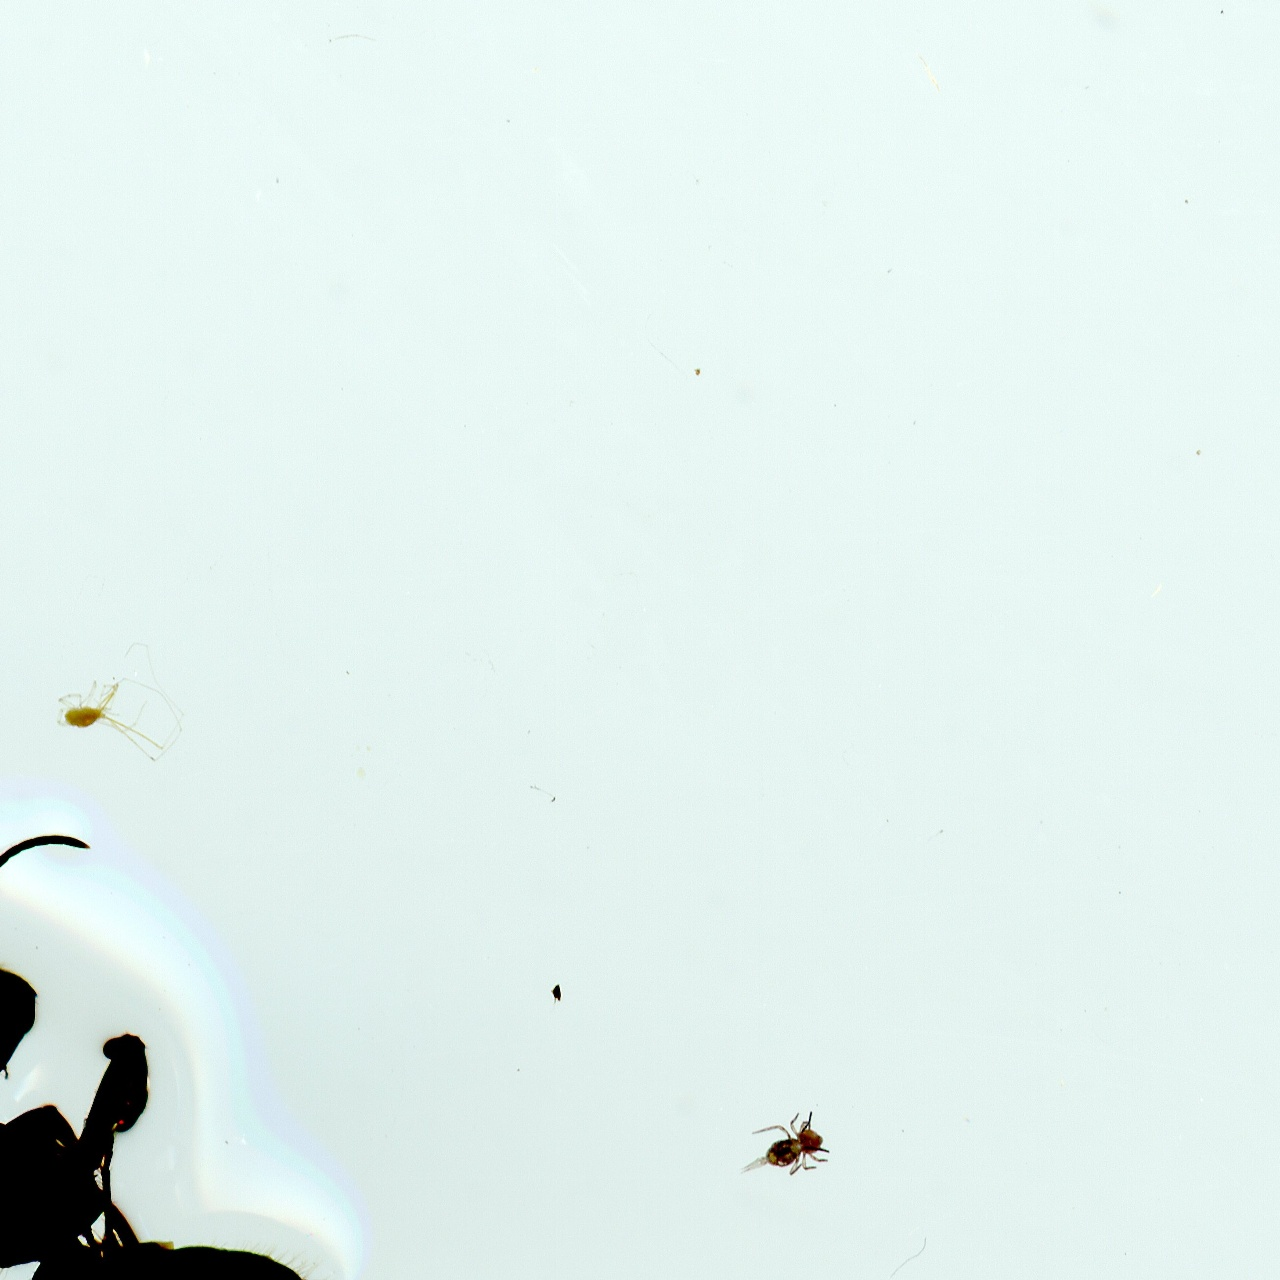arthropod: (0, 783, 398, 1280), (51, 637, 191, 768), (719, 1092, 848, 1210)
